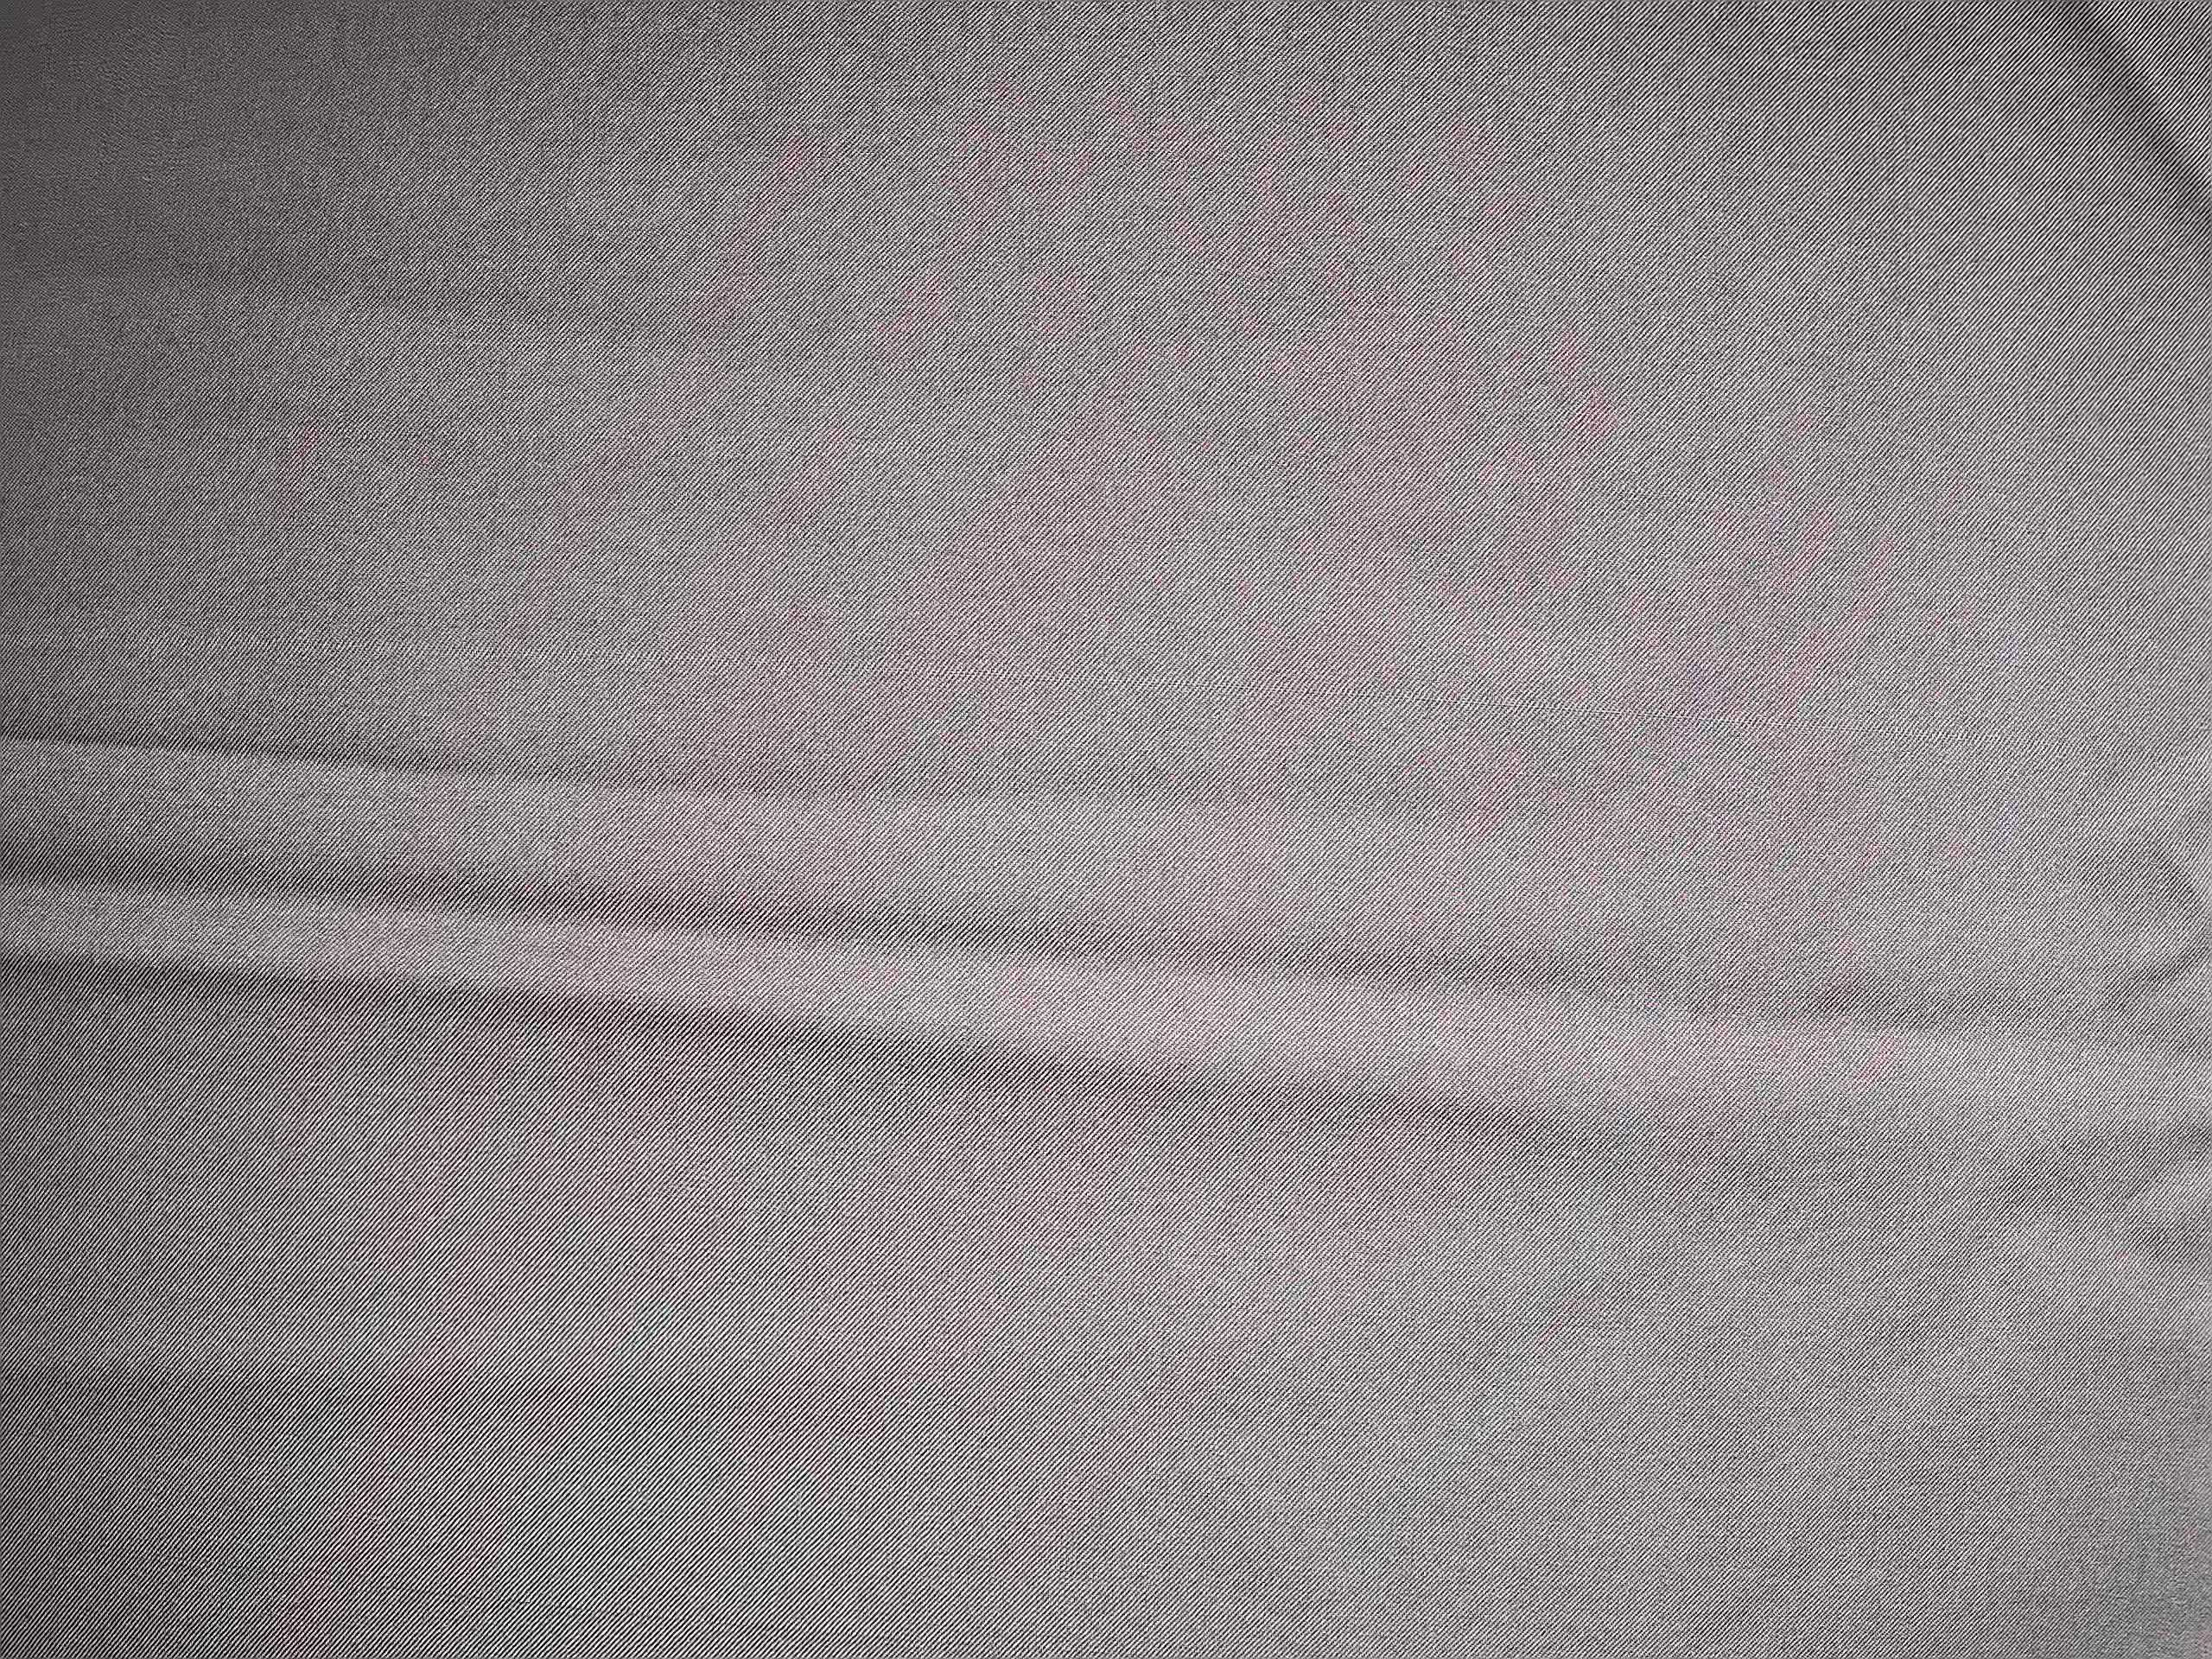others: (21, 613, 1759, 737)
